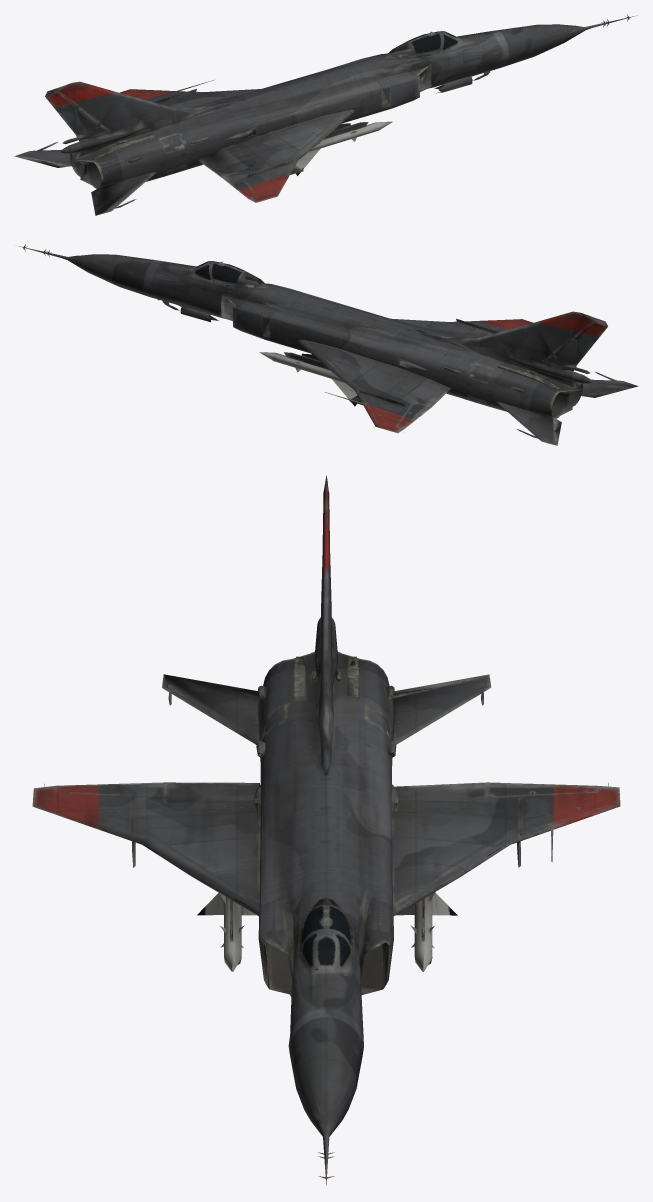
Rendered from fh_battle_e_interceptor.glb.
The picture shows the model from 3 angles, top to bottom: view 1: azimuth 30°, elevation 25°; view 2: azimuth 150°, elevation 25°; view 3: azimuth 270°, elevation 25°; orthographic projection. The views are drawn at different scales.
Visible parts, largest first — view 1: interceptor; view 2: interceptor; view 3: interceptor.
Part boxes in pixels (x1,y1,x2,y2): interceptor: (14,14,636,215); interceptor: (18,244,638,445); interceptor: (32,475,620,1185).
Bounding box in the file's own units: 0.9956 × 0.1891 × 0.4266.
Materials: 2 (2 with a texture image).
